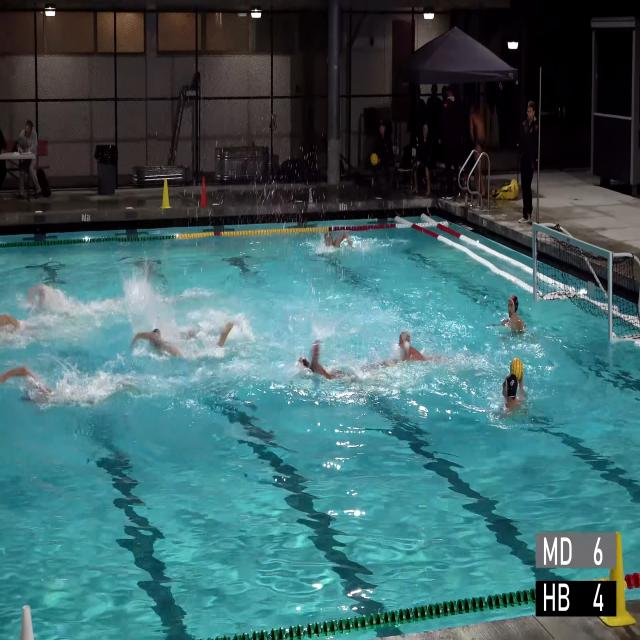ball: (510, 357, 523, 381), (370, 152, 378, 166)
